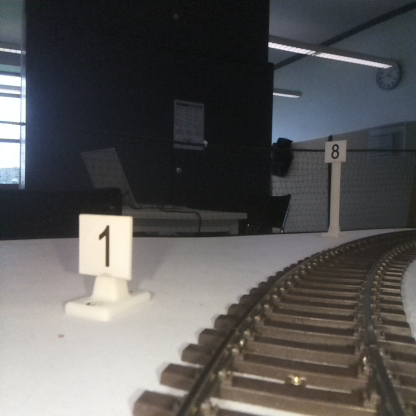white-info-8: (324, 140, 346, 233)
white-stop-1: (78, 215, 132, 315)
